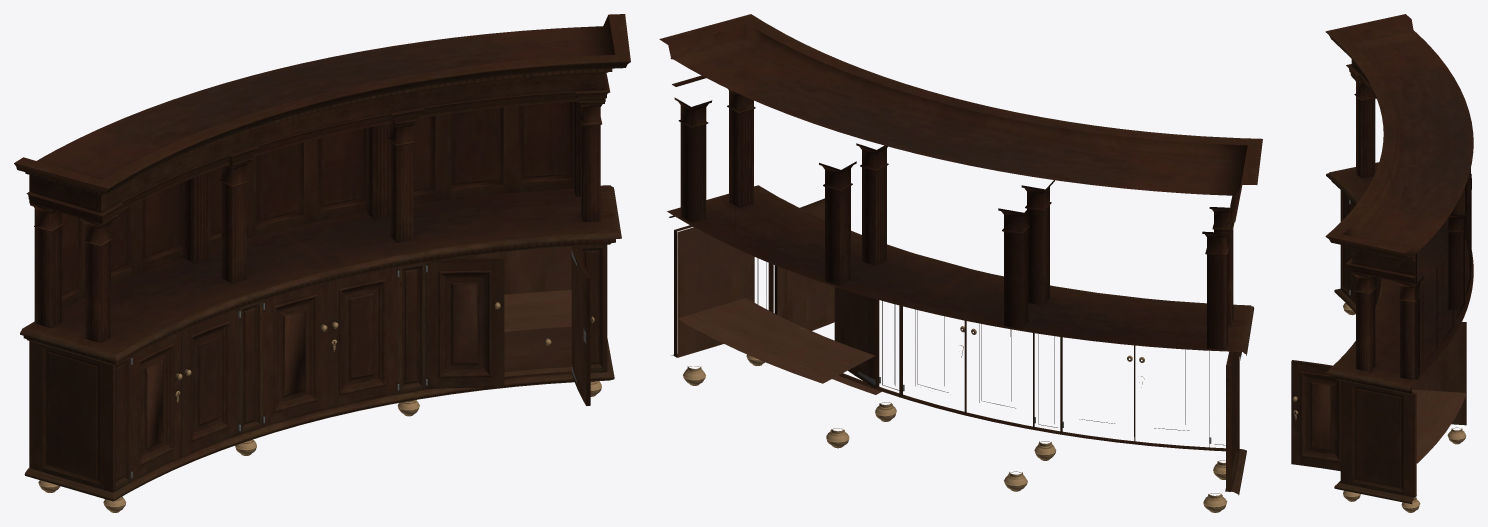
The model's file is armario.glb.
3 views of the same model, side by side, from view 1: azimuth 30°, elevation 25°; view 2: azimuth 150°, elevation 25°; view 3: azimuth 270°, elevation 25° (orthographic). The views are drawn at different scales.
Visible parts, largest first — view 1: Dresser_II_Int_Bend_Export; view 2: Dresser_II_Int_Bend_Export; view 3: Dresser_II_Int_Bend_Export.
Boxes of the visible parts, x1,y1,x2,y2 form: Dresser_II_Int_Bend_Export: [14, 14, 630, 512]; Dresser_II_Int_Bend_Export: [659, 14, 1262, 512]; Dresser_II_Int_Bend_Export: [1291, 14, 1473, 512].
Size of the model in its own units: 3.4 by 1.81 by 1.1.
Materials: 1 (1 with a texture image).
